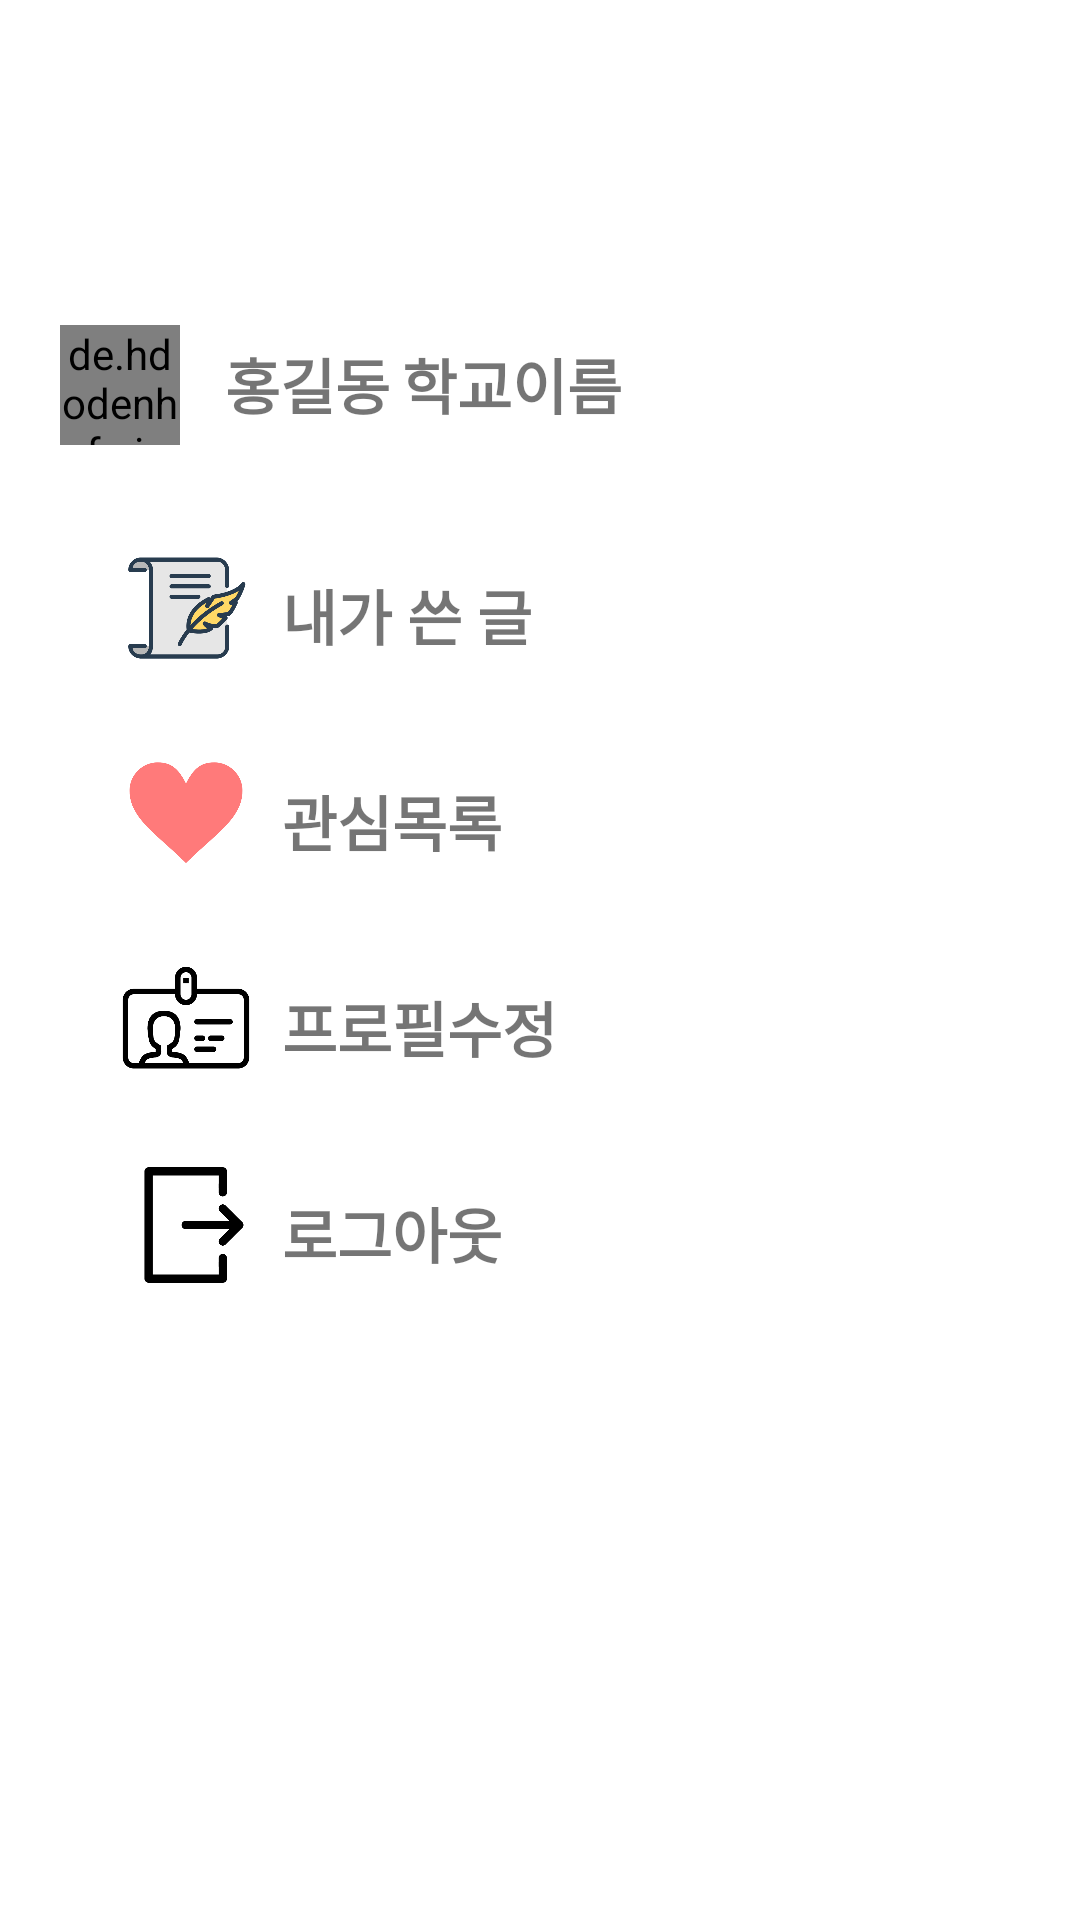

Icons on this 1080*1920 Android screen, each with its box as [left=x1, top=y1, right=x2, bottom=y2]:
heart: [left=129, top=762, right=243, bottom=863]
paperwrite: [left=128, top=557, right=246, bottom=659]
profile: [left=123, top=967, right=249, bottom=1069]
